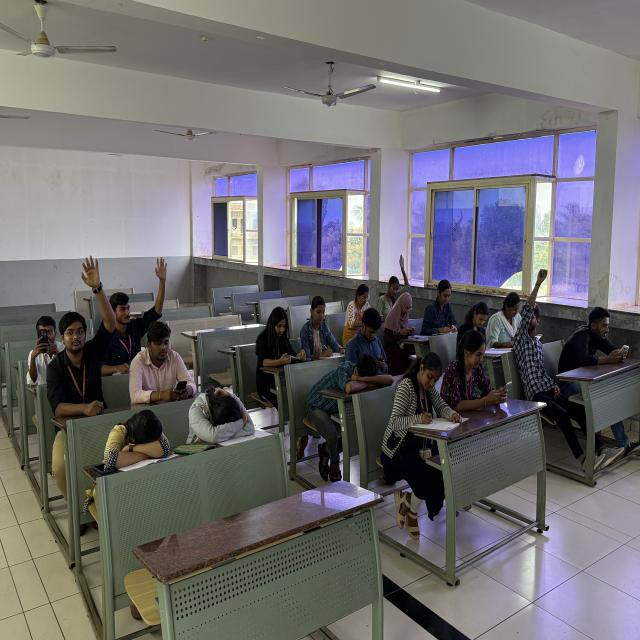Hand Rising: (62, 251, 124, 415), (108, 241, 168, 364), (509, 265, 559, 378), (378, 251, 409, 308)
Reading: (255, 305, 307, 368), (452, 295, 499, 359), (490, 290, 530, 348)
Sleeping: (296, 348, 402, 411), (97, 404, 176, 477), (186, 383, 260, 449)
Using Phone: (124, 316, 200, 416), (448, 331, 516, 407), (563, 305, 633, 361), (25, 313, 69, 389), (346, 307, 394, 370), (382, 294, 418, 346)
Writing: (386, 348, 458, 438), (296, 294, 344, 358), (419, 276, 465, 336)
